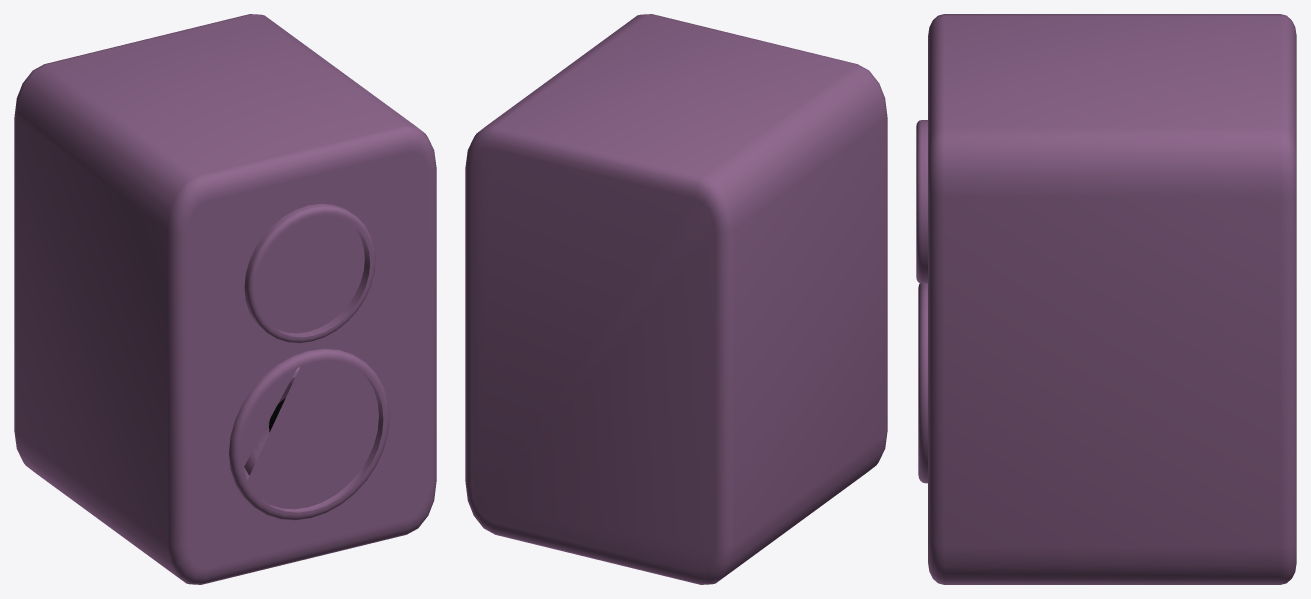
File: PARLANTES P.fbx
3 renders of one model, left to right at view 1: azimuth 30°, elevation 25°; view 2: azimuth 150°, elevation 25°; view 3: azimuth 270°, elevation 25°, orthographic. The views are drawn at different scales.
Parts seen in each view (by area): view 1: Cube.042; view 2: Cube.042; view 3: Cube.042.
Part boxes in pixels (x1,y1,x2,y2): Cube.042: [14, 14, 436, 584]; Cube.042: [465, 14, 887, 584]; Cube.042: [916, 14, 1296, 584].
Size of the model in its own units: 25.07 by 36.68 by 27.8.
